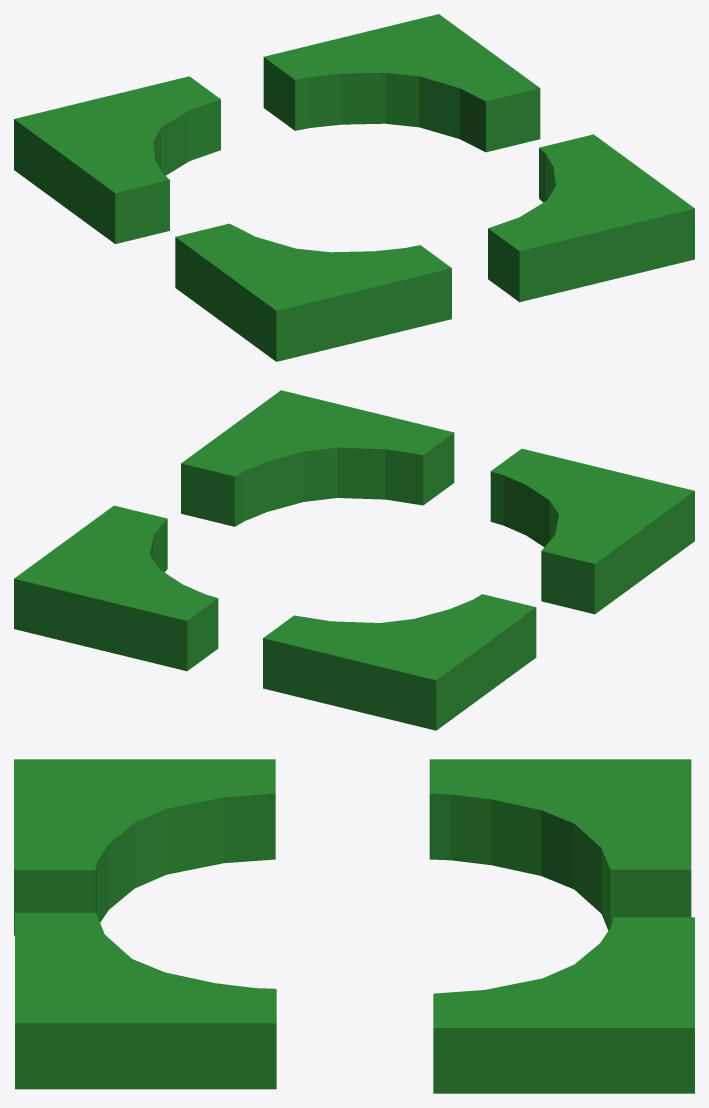
Rendered from GardenCentralHedge.fbx.
3 renders of one model, top to bottom at view 1: azimuth 30°, elevation 25°; view 2: azimuth 150°, elevation 25°; view 3: azimuth 270°, elevation 25°, orthographic. The views are drawn at different scales.
Parts seen in each view (by area): view 1: Plane.003; view 2: Plane.003; view 3: Plane.003.
Part boxes in pixels (x1=…): Plane.003: x1=14, y1=14, x2=694, y2=361; Plane.003: x1=14, y1=390, x2=694, y2=730; Plane.003: x1=14, y1=759, x2=694, y2=1093.
Bounding box in the file's own units: 3988 × 456 × 4272.
